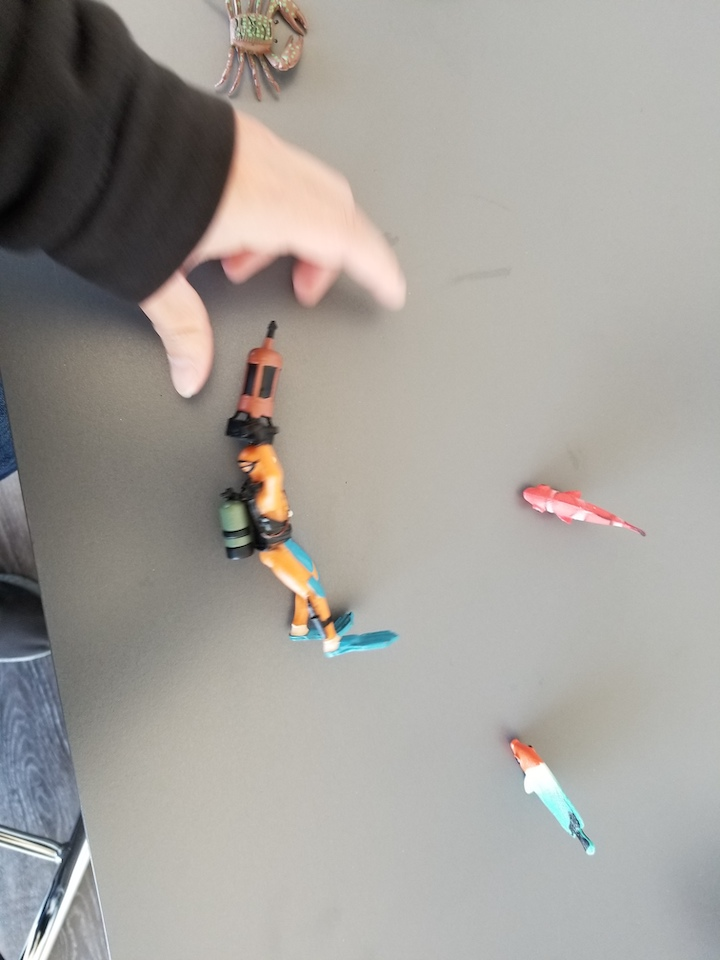crab: (187, 1, 312, 107)
diver: (212, 315, 404, 660)
fish: (502, 732, 604, 867), (511, 479, 652, 548)
